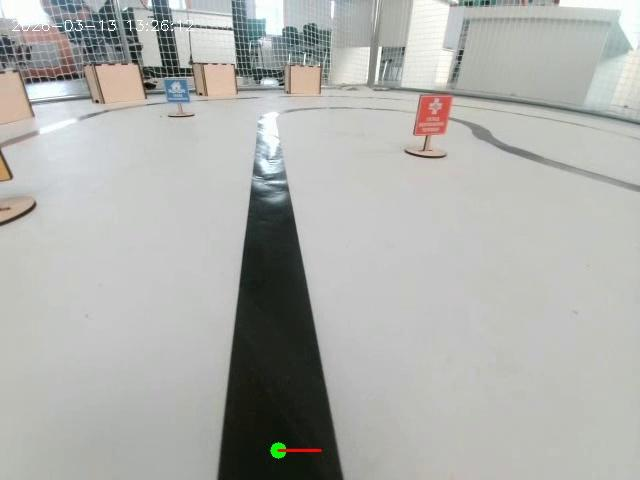flood: (148, 75, 196, 118)
industrial: (0, 116, 60, 240)
medical: (416, 82, 456, 161)
